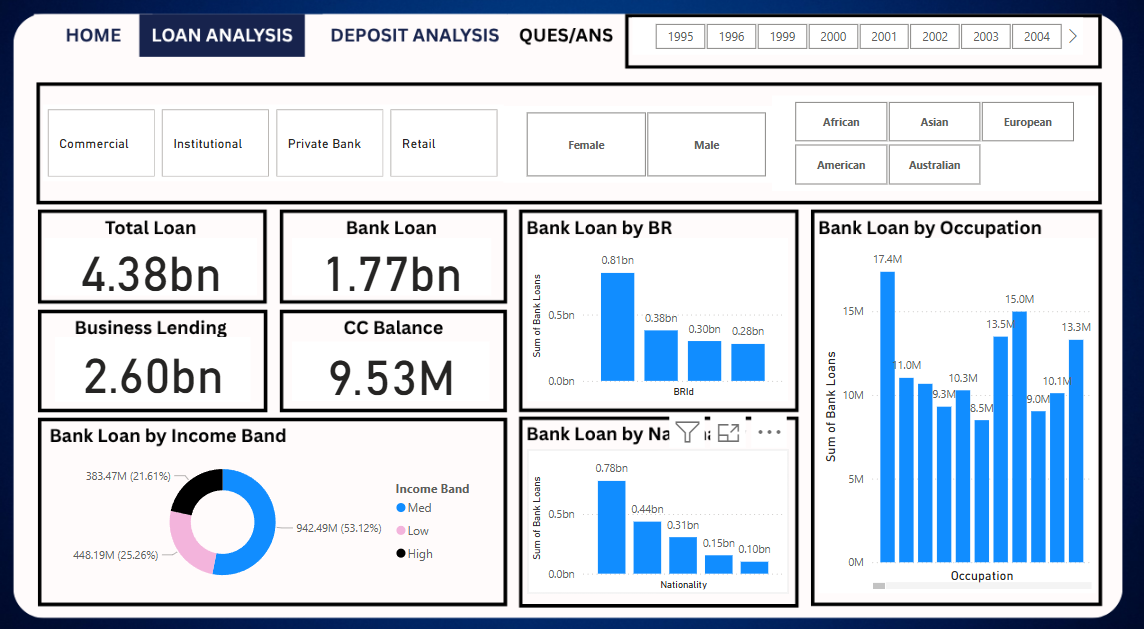

The page's visual inventory and layout, read from the dashboard file:
{"tool":"powerbi","page":{"name":"Loan Analysis ","canvas":[1280,720],"ordinal":1},"visuals":[{"type":"actionButton","box":[57.8,23.4,100,40.6],"z":0},{"type":"actionButton","box":[360.9,24.6,207.9,39.7],"z":1000},{"type":"actionButton","box":[582.1,22.7,109.6,39.7],"z":2000},{"type":"card","fields":{"Values":["Banking.Total Loan"]},"box":[58.6,270.2,236.2,64.3],"z":3000},{"type":"card","fields":{"Values":["Sum(Banking.Bank Loans)"]},"box":[332.6,270.2,221.1,64.3],"z":4000},{"type":"card","fields":{"Values":["Sum(Banking.Business Lending)"]},"box":[69.9,379.8,217.3,71.8],"z":5000},{"type":"card","fields":{"Values":["Sum(Banking.Credit Card Balance)"]},"box":[332.6,385.5,219.2,66.1],"z":6000},{"type":"donutChart","fields":{"Category":["Banking.Income Band"],"Y":["Sum(Banking.Bank Loans)"]},"box":[58.6,504.6,495.1,160.6],"z":7000},{"type":"clusteredColumnChart","fields":{"Category":["Banking.BRId"],"Y":["Sum(Banking.Bank Loans)"]},"box":[595.3,270.2,289.1,181.4],"z":8000},{"type":"clusteredColumnChart","fields":{"Y":["Sum(Banking.Bank Loans)"],"Category":["Banking.Nationality"]},"box":[595.3,504.6,289.1,160.6],"z":9000},{"type":"clusteredColumnChart","fields":{"Y":["Sum(Banking.Bank Loans)"],"Category":["Banking.Occupation","Banking.Nationality"]},"box":[918.4,270.2,308,395],"z":10000},{"type":"advancedSlicerVisual","fields":{"Values":["Banking.BRId"]},"box":[56.7,120.9,512.1,85],"z":11000},{"type":"slicer","fields":{"Values":["Banking.GenderId"]},"box":[568.8,122.8,315.6,85],"z":12000},{"type":"slicer","fields":{"Values":["Banking.Nationality"]},"box":[867.4,111.5,359.1,105.8],"z":13000},{"type":"slicer","fields":{"Values":["Banking.Year of Joining"]},"box":[712.4,24.6,500.8,41.6],"z":14000}]}

Visuals, with their boxes in screenshot pixels (x1, y1, x2, y2), scaled from the page's 1280x720 canvas onto the 1144x629 screenshot:
actionButton: x1=52 y1=20 x2=141 y2=56
actionButton: x1=323 y1=21 x2=508 y2=56
actionButton: x1=520 y1=20 x2=618 y2=55
card - Banking.Total Loan: x1=52 y1=236 x2=263 y2=292
card - Sum(Banking.Bank Loans): x1=297 y1=236 x2=495 y2=292
card - Sum(Banking.Business Lending): x1=62 y1=332 x2=257 y2=395
card - Sum(Banking.Credit Card Balance): x1=297 y1=337 x2=493 y2=395
donutChart - Banking.Income Band x Sum(Banking.Bank Loans): x1=52 y1=441 x2=495 y2=581
clusteredColumnChart - Banking.BRId x Sum(Banking.Bank Loans): x1=532 y1=236 x2=790 y2=395
clusteredColumnChart - Sum(Banking.Bank Loans) x Banking.Nationality: x1=532 y1=441 x2=790 y2=581
clusteredColumnChart - Sum(Banking.Bank Loans) x Banking.Occupation: x1=821 y1=236 x2=1096 y2=581
advancedSlicerVisual - Banking.BRId: x1=51 y1=106 x2=508 y2=180
slicer - Banking.GenderId: x1=508 y1=107 x2=790 y2=182
slicer - Banking.Nationality: x1=775 y1=97 x2=1096 y2=190
slicer - Banking.Year of Joining: x1=637 y1=21 x2=1084 y2=58
